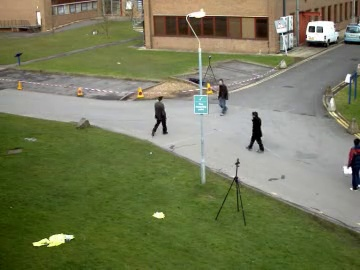person: (247, 111, 265, 153), (150, 97, 168, 137), (216, 78, 232, 113)
